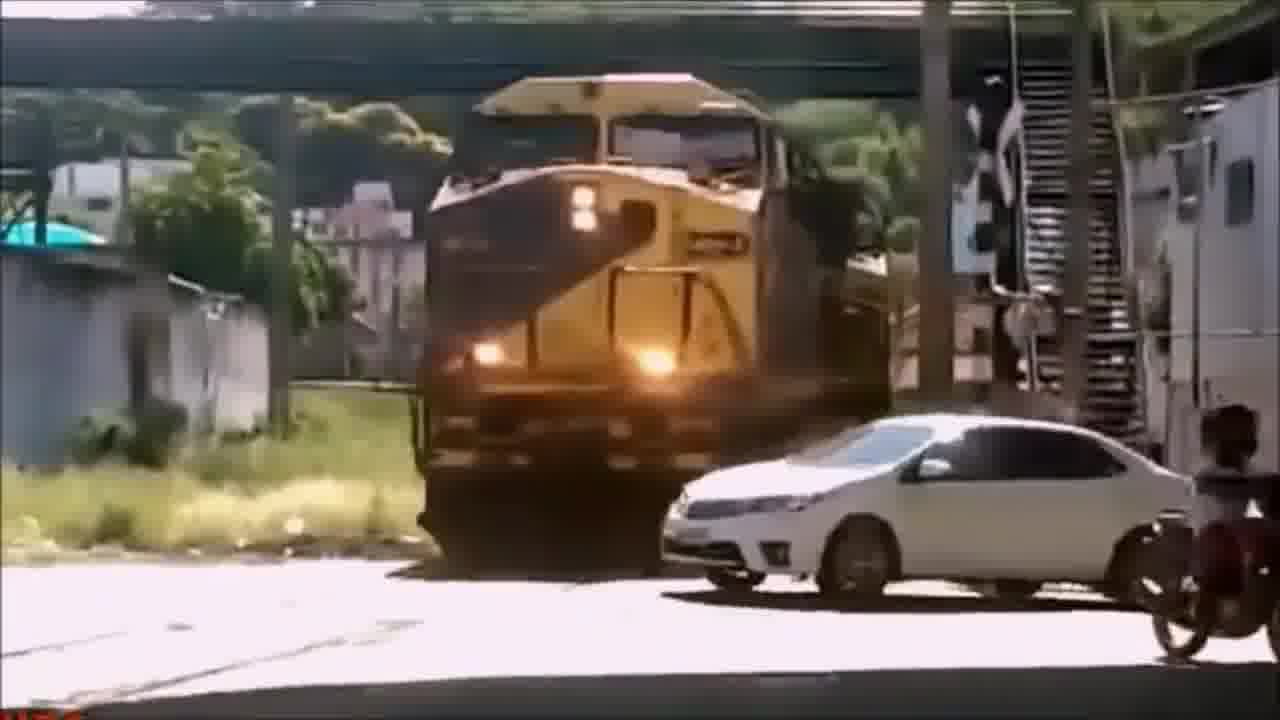crossing railway track: (640, 413, 1259, 605)
